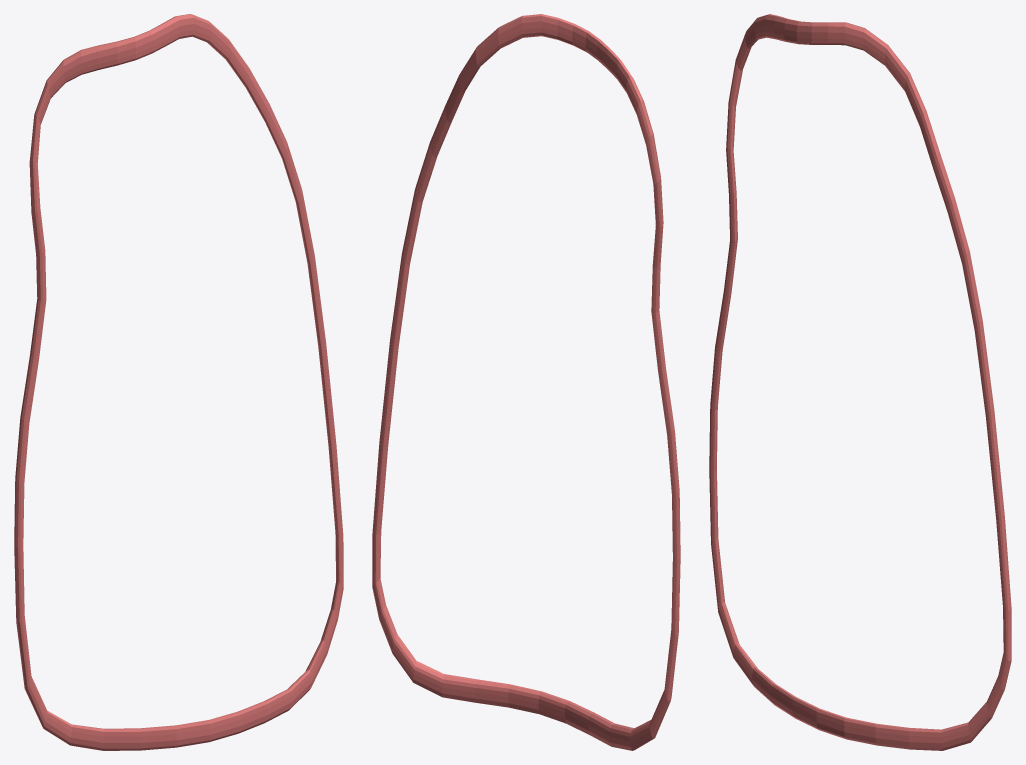
The model's file is alien1CuttinglineTest.fbx.
3 renders of one model, left to right at view 1: azimuth 30°, elevation 25°; view 2: azimuth 150°, elevation 25°; view 3: azimuth 330°, elevation 25°, orthographic. The views are drawn at different scales.
Parts seen in each view (by area): view 1: BodyCuttingLine; view 2: BodyCuttingLine; view 3: BodyCuttingLine.
Part boxes in pixels (left/top/right/bottom): BodyCuttingLine: left=14, top=14, right=343, bottom=750; BodyCuttingLine: left=372, top=14, right=680, bottom=750; BodyCuttingLine: left=709, top=14, right=1011, bottom=750.
Size of the model in its own units: 75.32 by 163 by 14.35.
